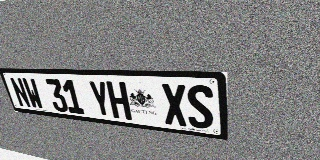1: (60, 79, 85, 114)
3: (45, 79, 69, 113)
H: (106, 81, 132, 120)
N: (9, 77, 32, 108)
S: (186, 84, 214, 130)
W: (21, 78, 45, 110)
X: (161, 83, 188, 127)
Y: (87, 80, 113, 118)
